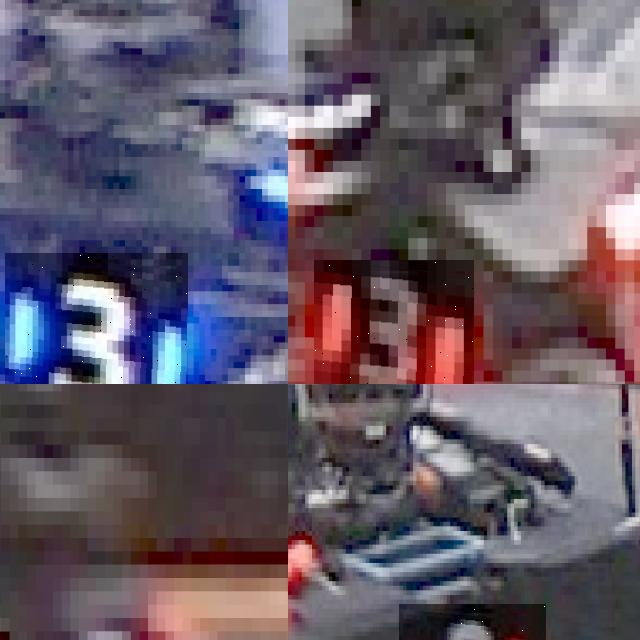B3: (5, 253, 188, 384)
R3: (314, 260, 474, 384), (399, 604, 547, 640), (288, 464, 325, 588)
